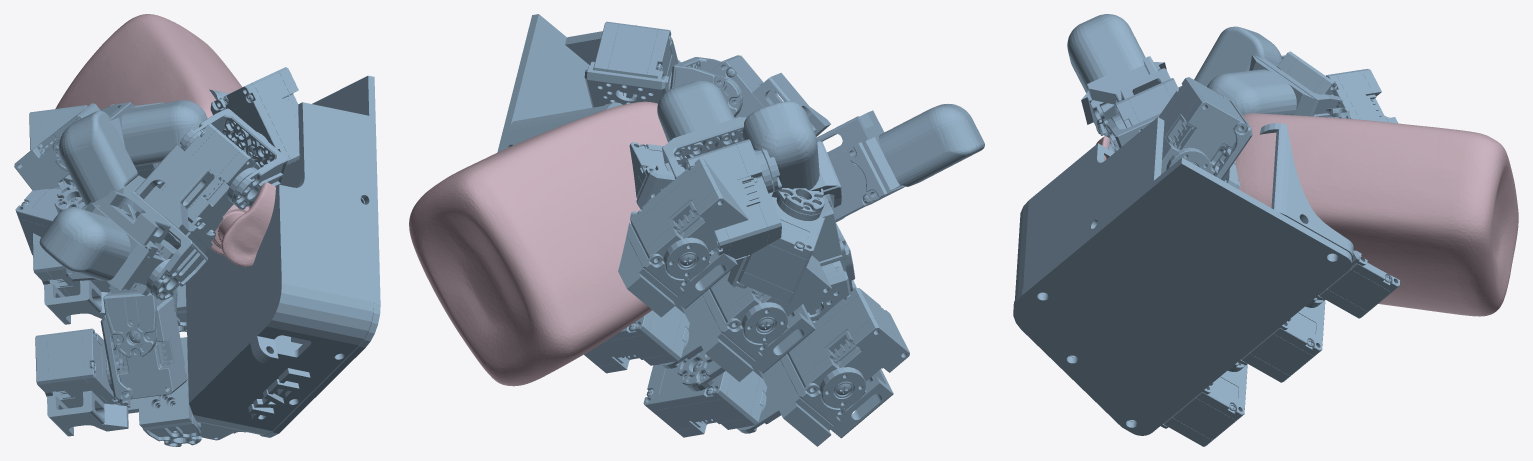
The picture shows the model from 3 angles, left to right: view 1: azimuth 30°, elevation 25°; view 2: azimuth 150°, elevation 25°; view 3: azimuth 270°, elevation 25°; orthographic projection. The views are drawn at different scales.
Parts seen in each view (by area): view 1: world, obj_mesh_grasp_15.obj; view 2: world, obj_mesh_grasp_15.obj; view 3: world, obj_mesh_grasp_15.obj.
Part boxes in pixels (x1,y1,x2,y2): world: [14, 67, 380, 446]; obj_mesh_grasp_15.obj: [55, 14, 275, 266]; world: [497, 14, 984, 446]; obj_mesh_grasp_15.obj: [409, 101, 667, 386]; world: [1013, 14, 1400, 446]; obj_mesh_grasp_15.obj: [1096, 113, 1518, 316].
Size of the model in its own units: 0.1619 by 0.1505 by 0.1806.
